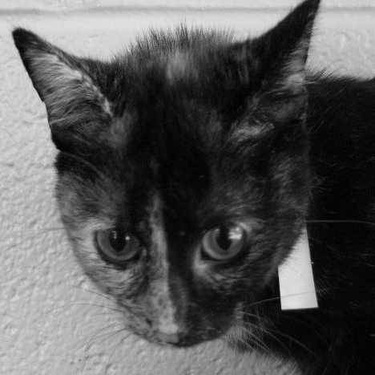cat: (11, 2, 369, 373)
